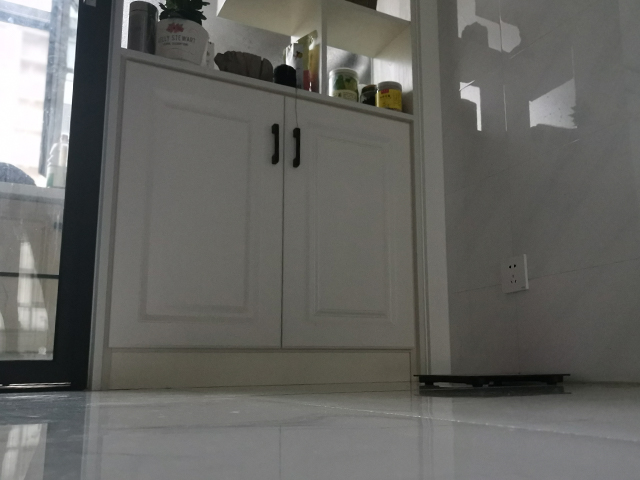cabinet: (92, 50, 424, 387)
